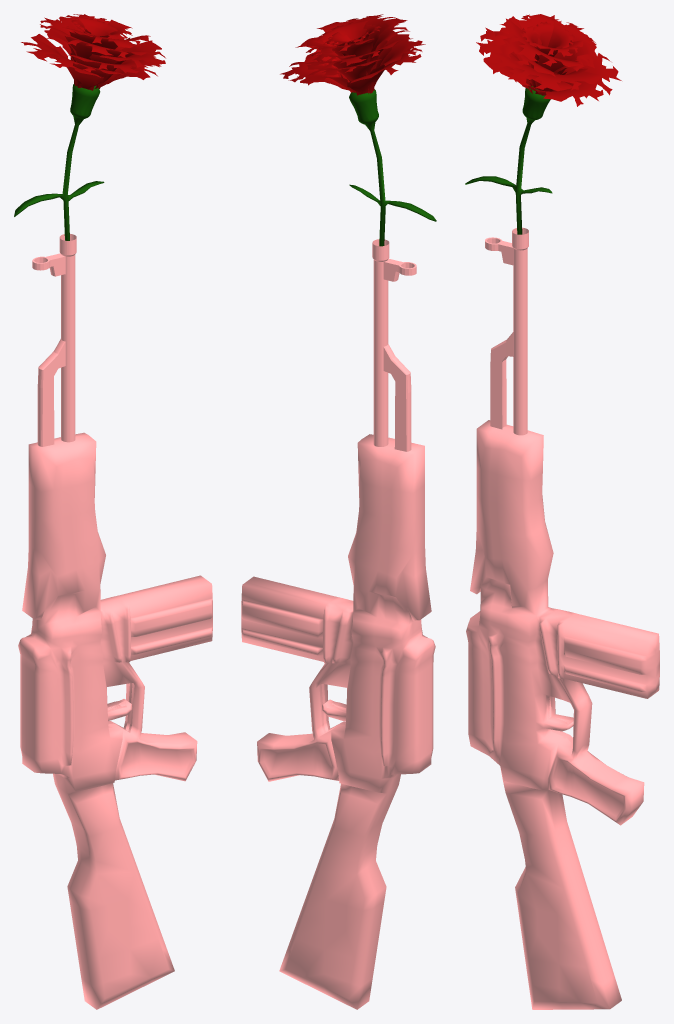
File: ak47_Hugo_Antonio.glb
The picture shows the model from 3 angles, left to right: view 1: azimuth 30°, elevation 25°; view 2: azimuth 150°, elevation 25°; view 3: azimuth 330°, elevation 25°; orthographic projection.
Visible parts, largest first — view 1: Cylinder.009_0; view 2: Cylinder.009_0; view 3: Cylinder.009_0.
Part boxes in pixels (bbox=[...]): Cylinder.009_0: bbox=[14, 14, 212, 1009]; Cylinder.009_0: bbox=[241, 14, 436, 1009]; Cylinder.009_0: bbox=[465, 14, 659, 1009].
Size of the model in its own units: 1.44 by 7.13 by 0.9308.
